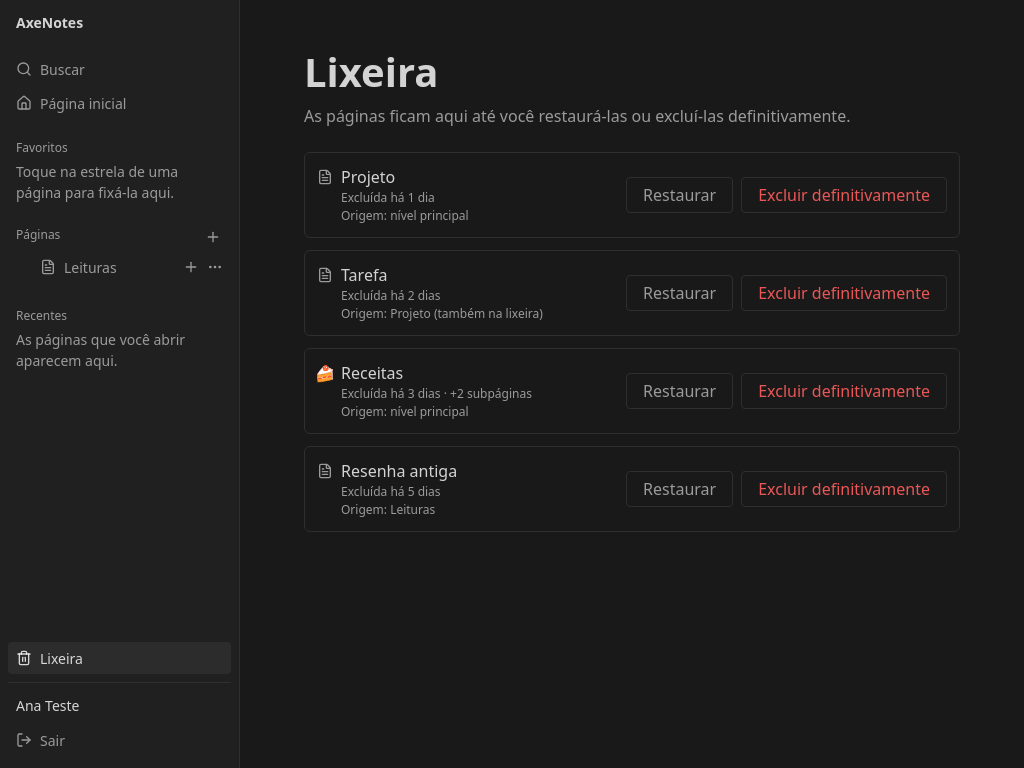
Test: tela /lixeira › opens a trashed page read-only from its title in the list
Click the link "Receitas": (372, 373) [341, 362, 403, 384]
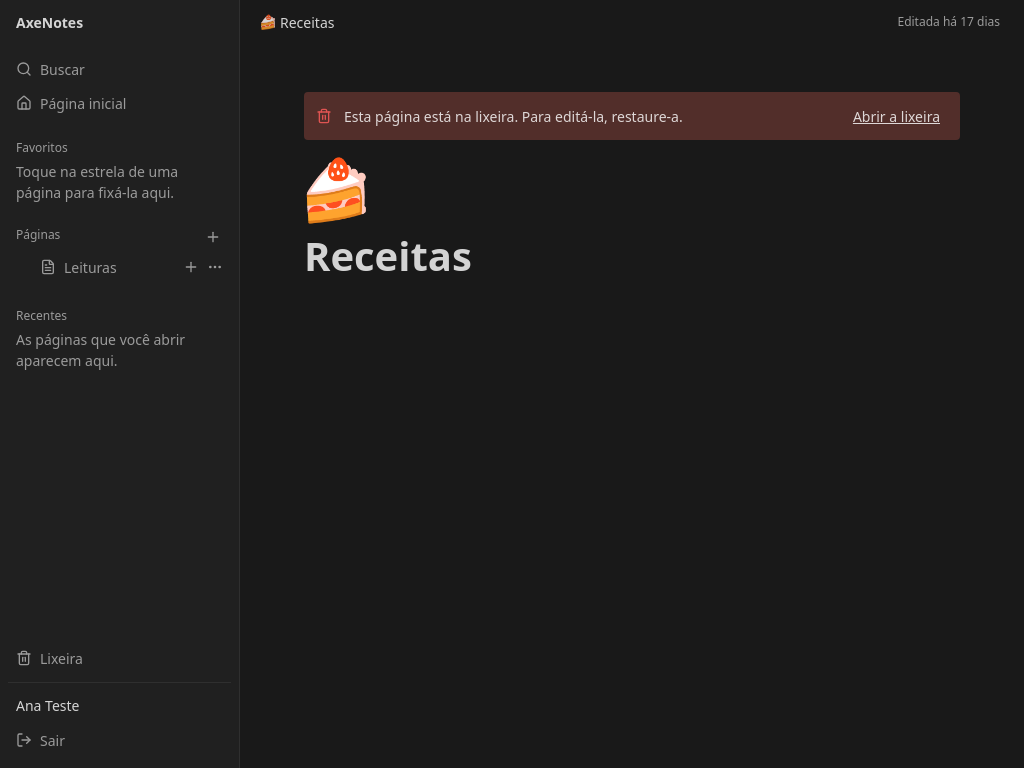
Check: the text "Esta página está na lixeira. Para editá-la, restaure-a." is shown, box [344, 106, 683, 126]
Check: the heading "Receitas" is shown, box [304, 228, 472, 283]
